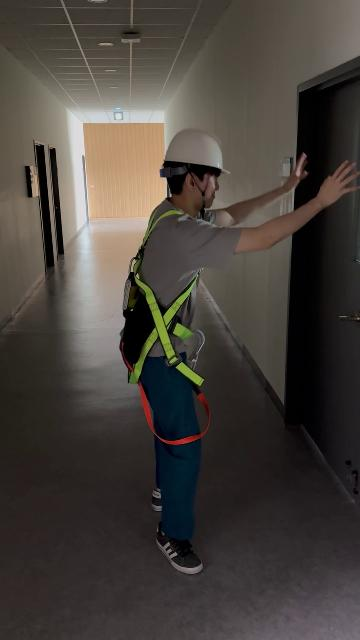helmet_worn: (160, 128, 232, 176)
shoe_not_worn: (156, 524, 202, 575), (151, 486, 162, 512)
vest_worn: (118, 206, 212, 438)
